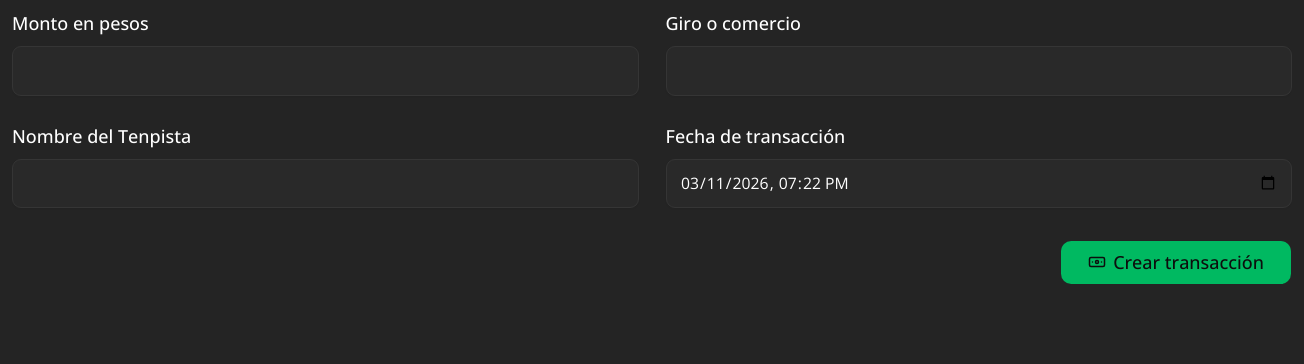
TransactionForm › muestra mensajes de error cuando se envía el formulario con campos vacíos
Click the button "Crear transacción" at (1176, 262), box [1060,240,1292,284]
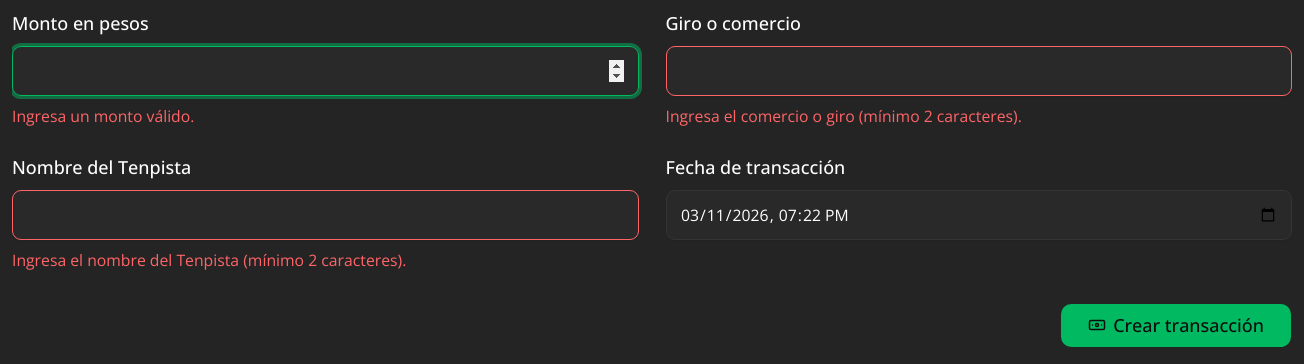
Check: the text "Ingresa un monto válido." is shown, box [12,104,194,126]
Check: the text "Ingresa el comercio o giro (mínimo 2 caracteres)." is shown, box [666,104,1022,126]
Check: the text "Ingresa el nombre del Tenpista (mínimo 2 caracteres)." is shown, box [12,248,406,270]
